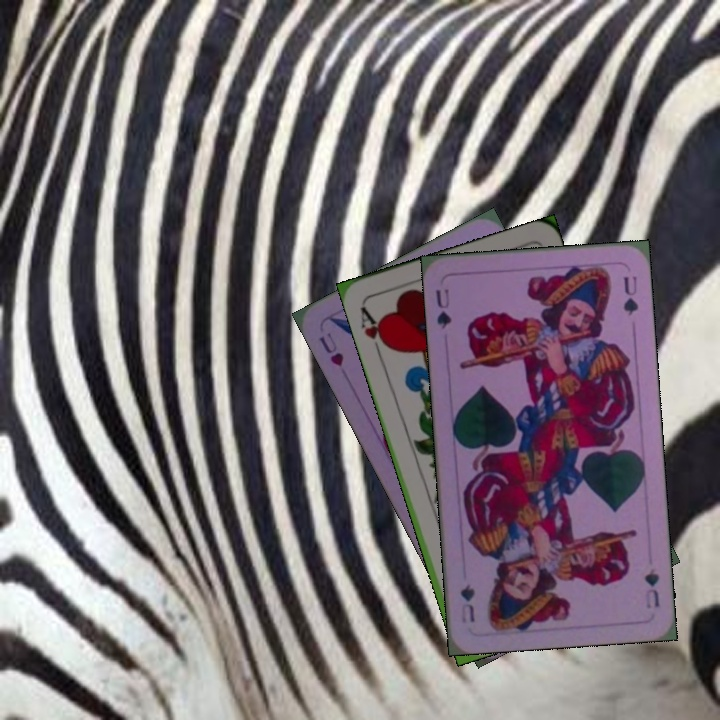GU: (431, 284, 454, 332), (641, 564, 662, 611)
HA: (356, 302, 392, 359)
HU: (315, 328, 347, 369)
